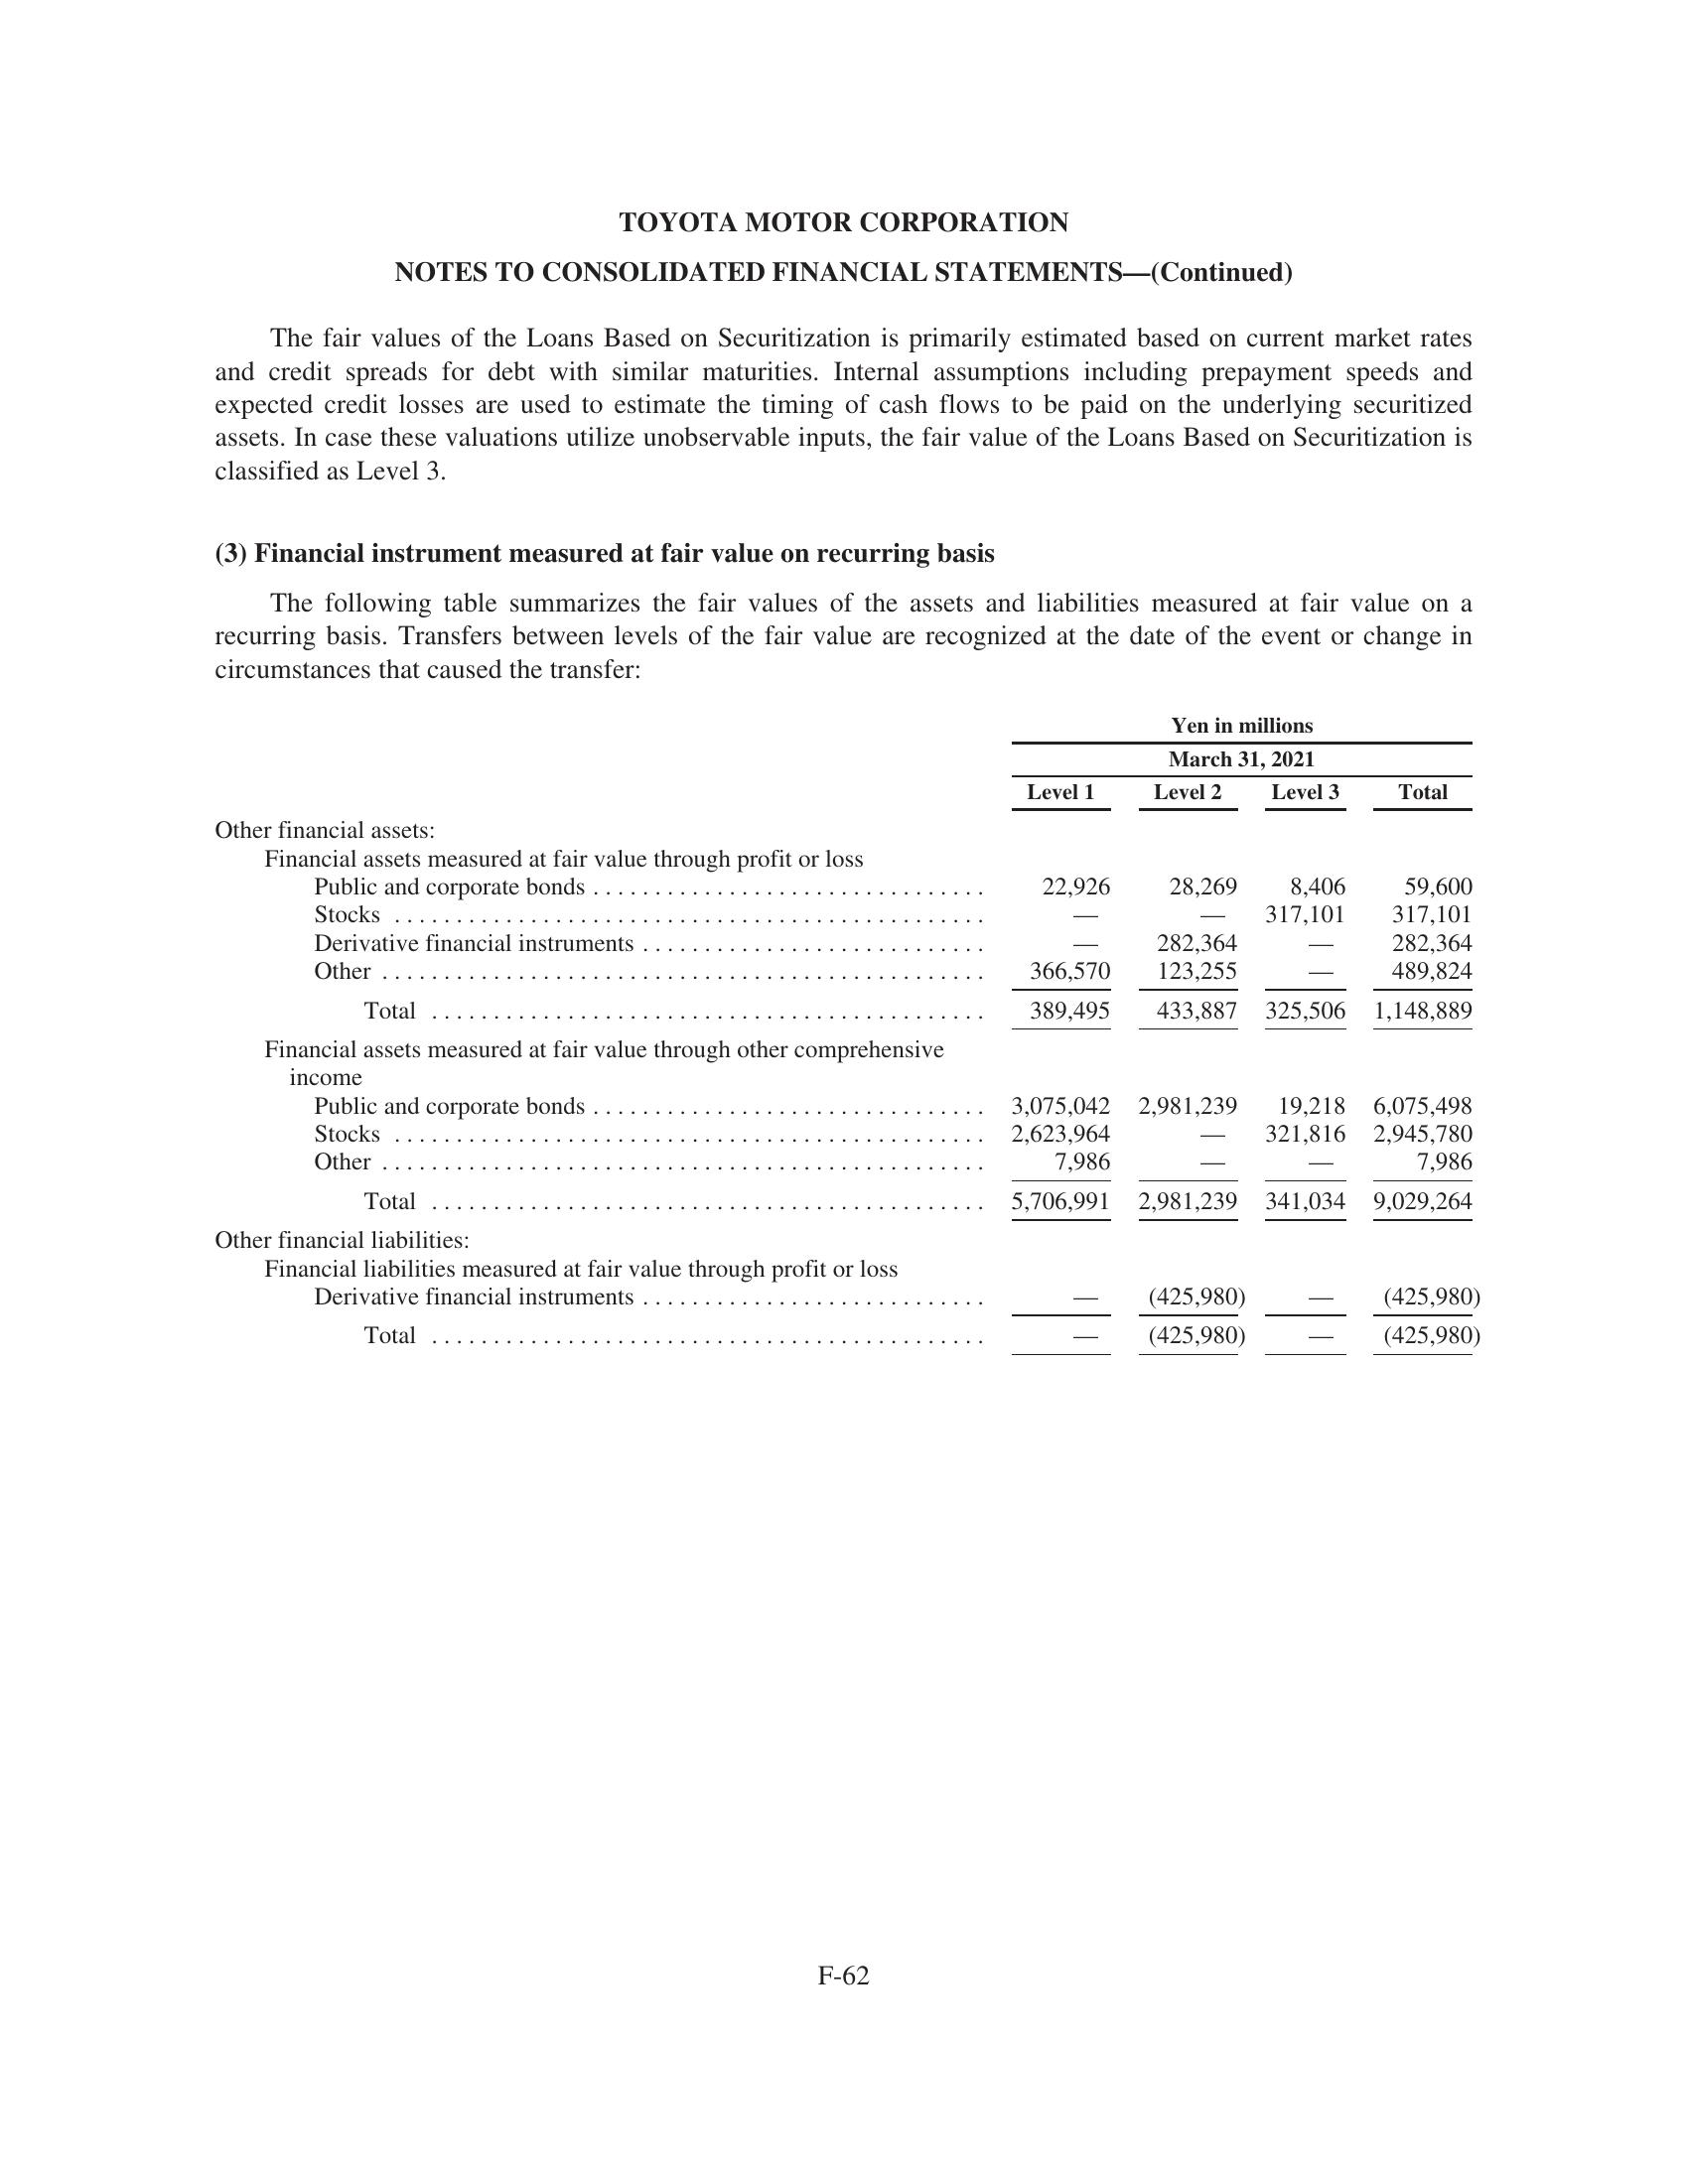Footer: (0, 1950, 1688, 2184)
Header: (0, 0, 1688, 183)
Table: (87, 702, 1504, 1379)
